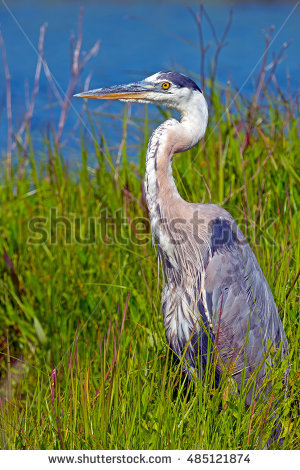heron: (71, 65, 287, 417)
